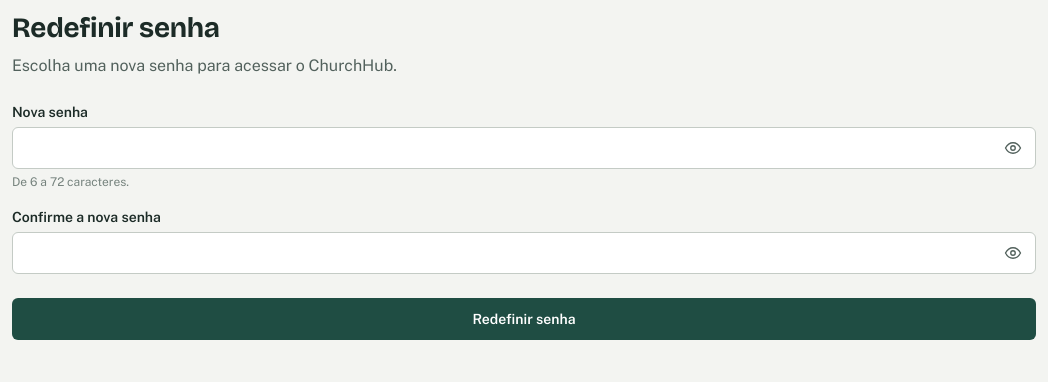
Scenario: redefinir senha › 400 de validação da senha aparece no campo, não como token inválido
Type "novaSenha1" into the password field labelled "Nova senha" at (524, 148), box 12,127 -> 1036,169
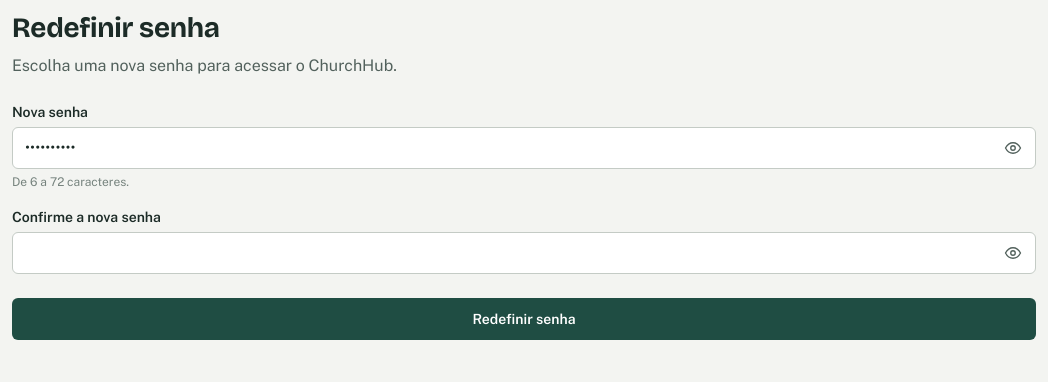
Type "novaSenha1" into the password field labelled "Confirme a nova senha" at (524, 253), box 12,232 -> 1036,274
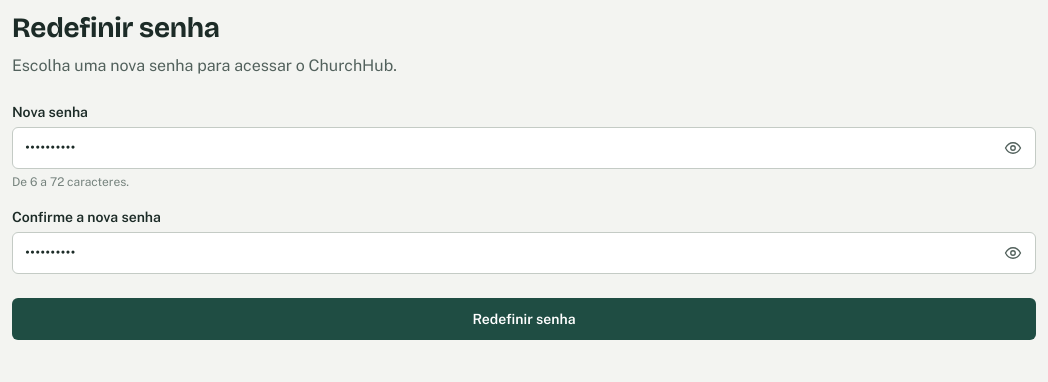
Click the button "Redefinir senha" at (524, 319), box 12,298 -> 1036,340
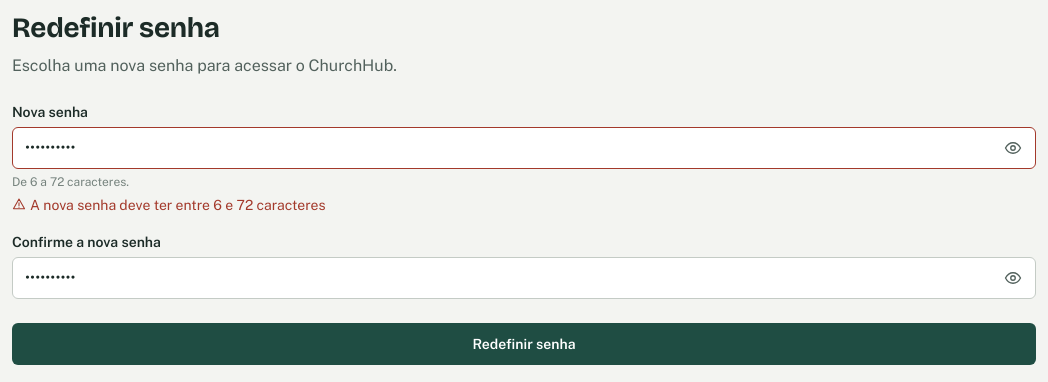
Now the text "A nova senha deve ter entre 6 e 72 caracteres" is shown, box 12,197 -> 326,213
